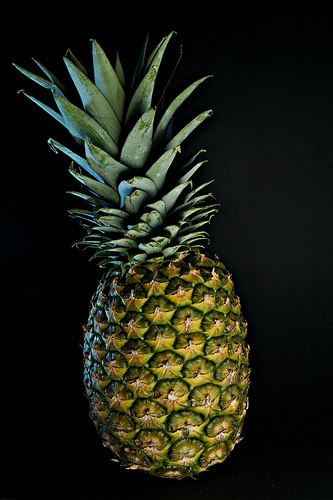pineapple: (12, 26, 251, 481)
